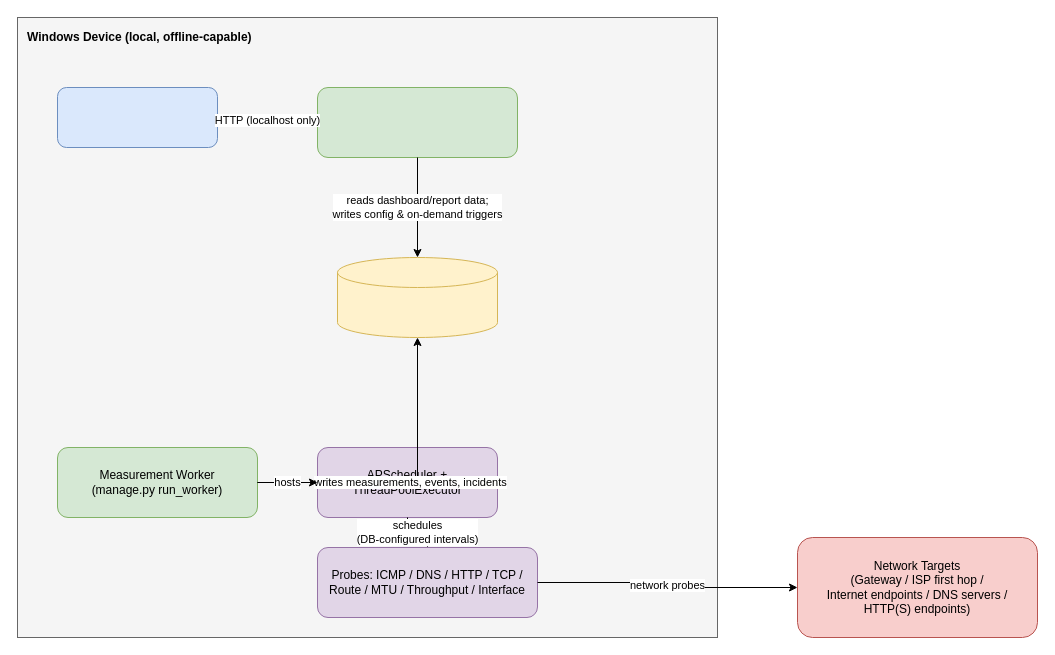
This 1055x655 diagram has some shape labels left out. The shapes that lost their labels are listed below. From the top down, each one's centre as x and y in pixels, then its label:
At (x=137, y=117): "Browser (Dashboard UI)".
At (x=417, y=122): "Django Web App (manage.py runserver 127.0.0.1 only)".
At (x=417, y=297): "SQLite Database (WAL mode, single file)".
